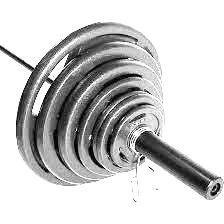Barbell: (196, 167, 224, 206)
